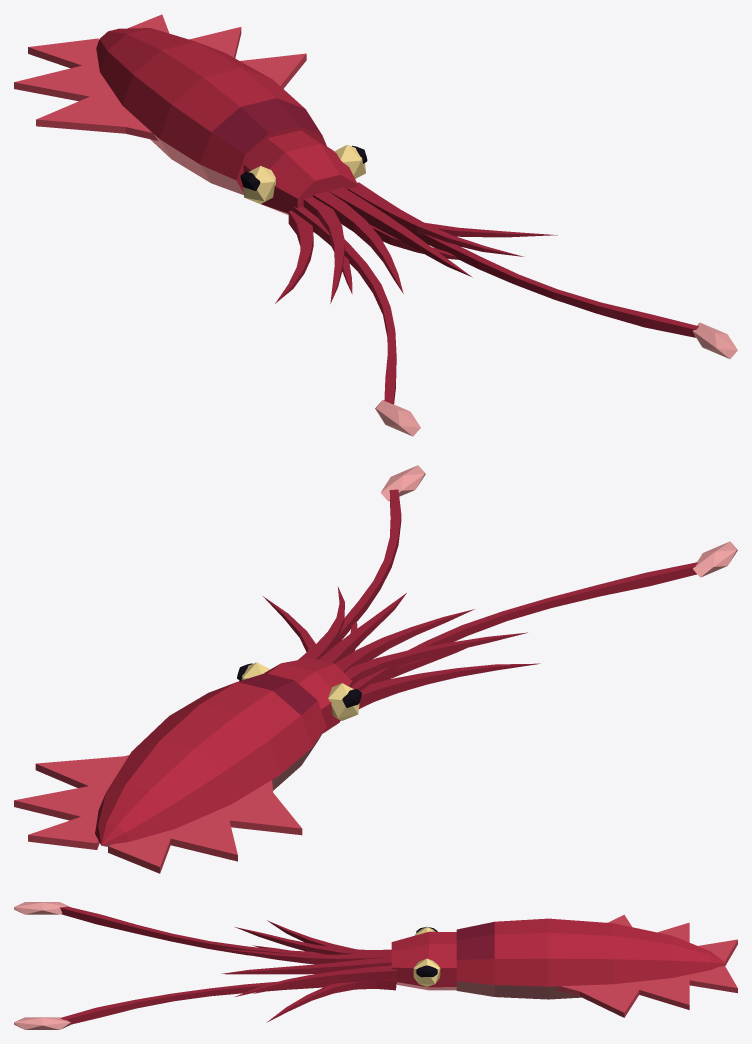
File: crown-squid.glb
3 views of the same model, one above another, from view 1: azimuth 30°, elevation 25°; view 2: azimuth 150°, elevation 25°; view 3: azimuth 270°, elevation 25° (orthographic). The views are drawn at different scales.
Parts seen in each view (by area): view 1: crown_squid; view 2: crown_squid; view 3: crown_squid.
Part boxes in pixels (box(x1,y1,x2,y2)): crown_squid: box(14, 14, 737, 436); crown_squid: box(14, 465, 737, 873); crown_squid: box(14, 902, 737, 1029).
Size of the model in its own units: 3.16 by 0.7833 by 7.78.
